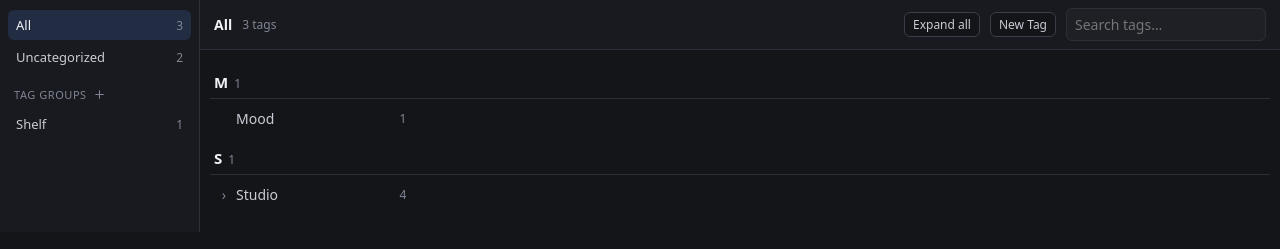
Test: right-clicking a tag keeps that tag’s menu rather than the blank-space one
This screenshot has width=1280, height=249.
Right-click the text "Studio" at (257, 194), box [236,185,278,204]
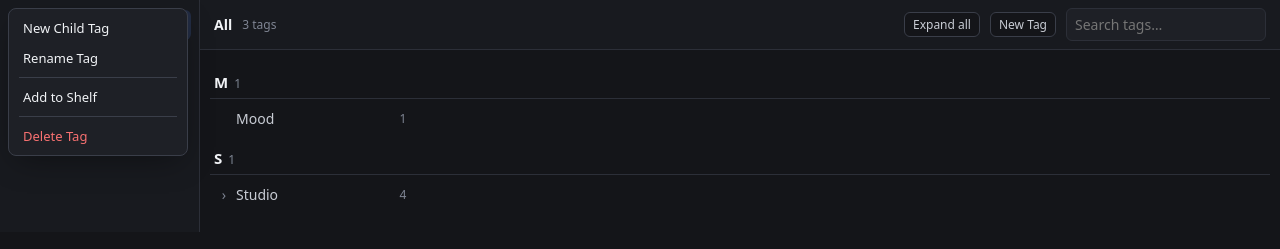
Expected: the menu item does not show "New Tag"
Result: the menu item "New Child Tag" is shown at [13,13,183,43]
